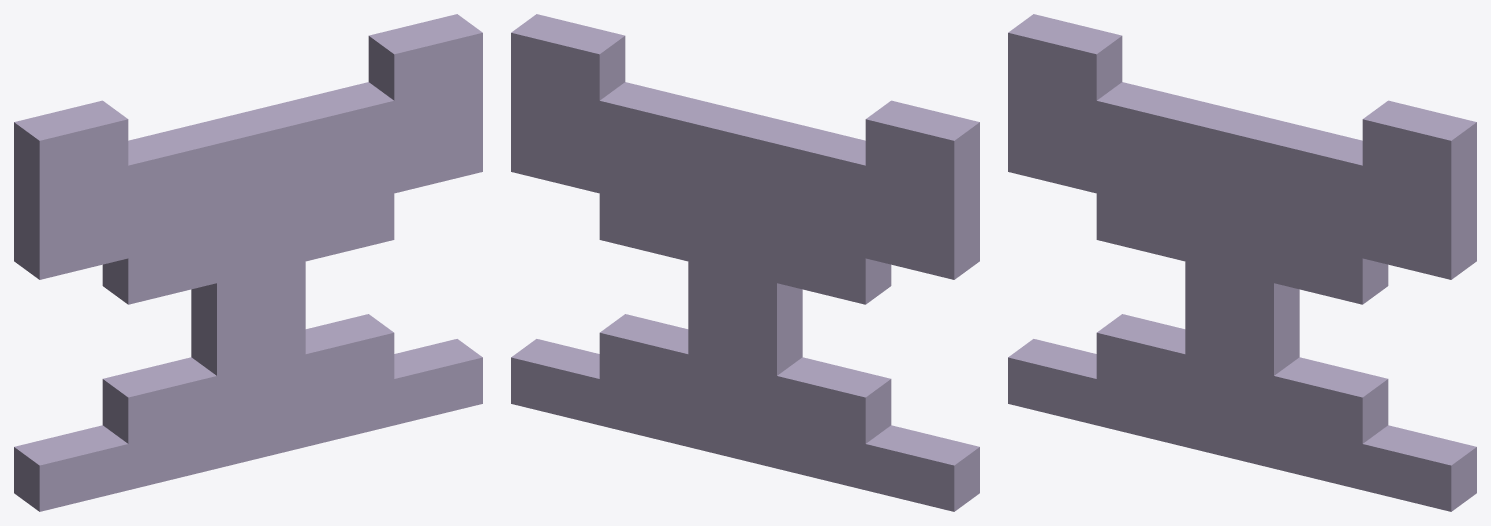
The model's file is Chalice-Grey.vox.obj.
3 renders of one model, left to right at view 1: azimuth 30°, elevation 25°; view 2: azimuth 150°, elevation 25°; view 3: azimuth 330°, elevation 25°, orthographic.
Bounding box in the file's own units: 1 × 0.8 × 0.1.
Materials: 1 (1 with a texture image).
